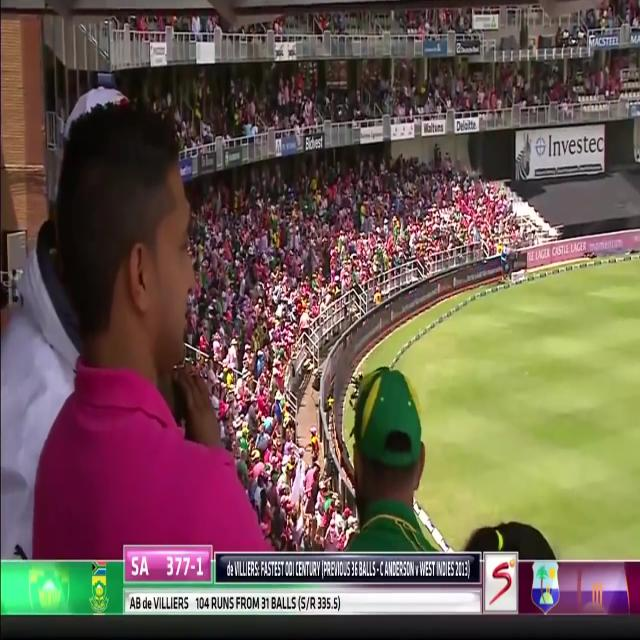Ball: (3, 64, 267, 556)
